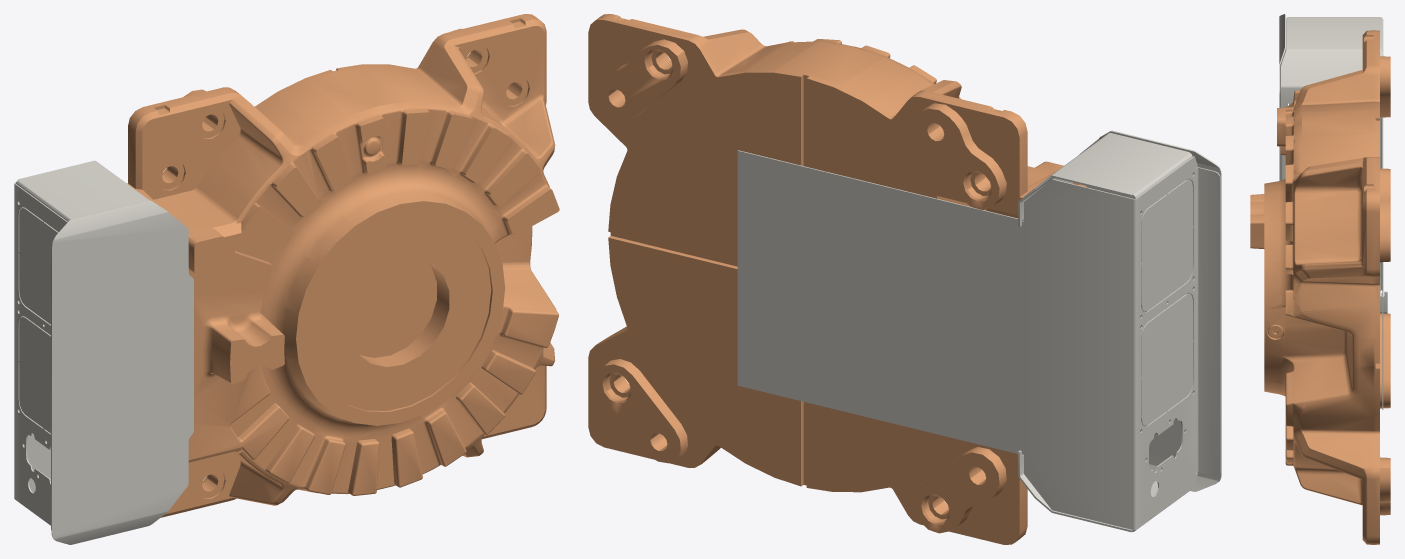
The picture shows the model from 3 angles, left to right: view 1: azimuth 30°, elevation 25°; view 2: azimuth 150°, elevation 25°; view 3: azimuth 270°, elevation 25°; orthographic projection. The views are drawn at different scales.
Visible parts, largest first — view 1: base_link, cable_box; view 2: cable_box, base_link; view 3: base_link, cable_box.
Part boxes in pixels (<box>): base_link: <box>127,14,559,517</box>; cable_box: <box>14,160,193,544</box>; cable_box: <box>737,130,1221,532</box>; base_link: <box>588,14,1086,544</box>; base_link: <box>1250,30,1390,544</box>; cable_box: <box>1279,14,1387,409</box>.
Size of the model in its own units: 1.01 by 0.72 by 0.261.
